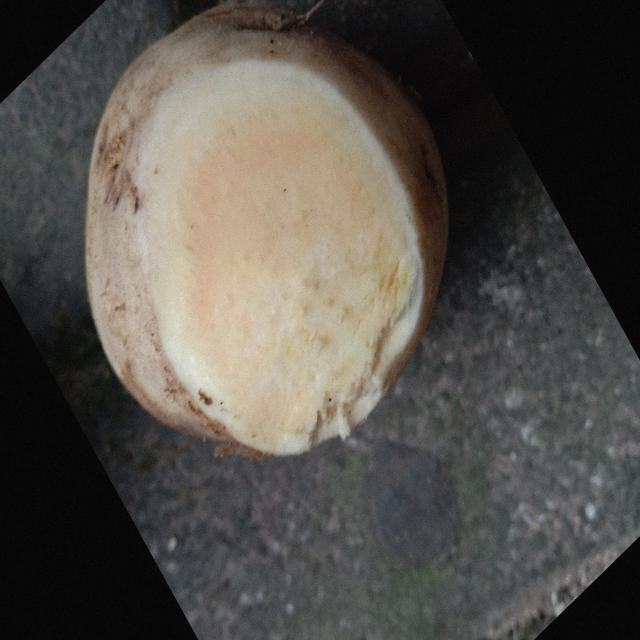Healthy Sweet Potato: (138, 58, 424, 455)
